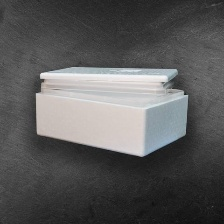foam_box: (25, 60, 194, 159)
